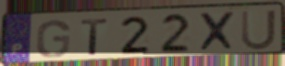2: (160, 12, 193, 55), (119, 15, 153, 56)
G: (34, 18, 72, 59)
T: (79, 17, 110, 57)
U: (240, 8, 278, 51)
X: (197, 10, 238, 53)
